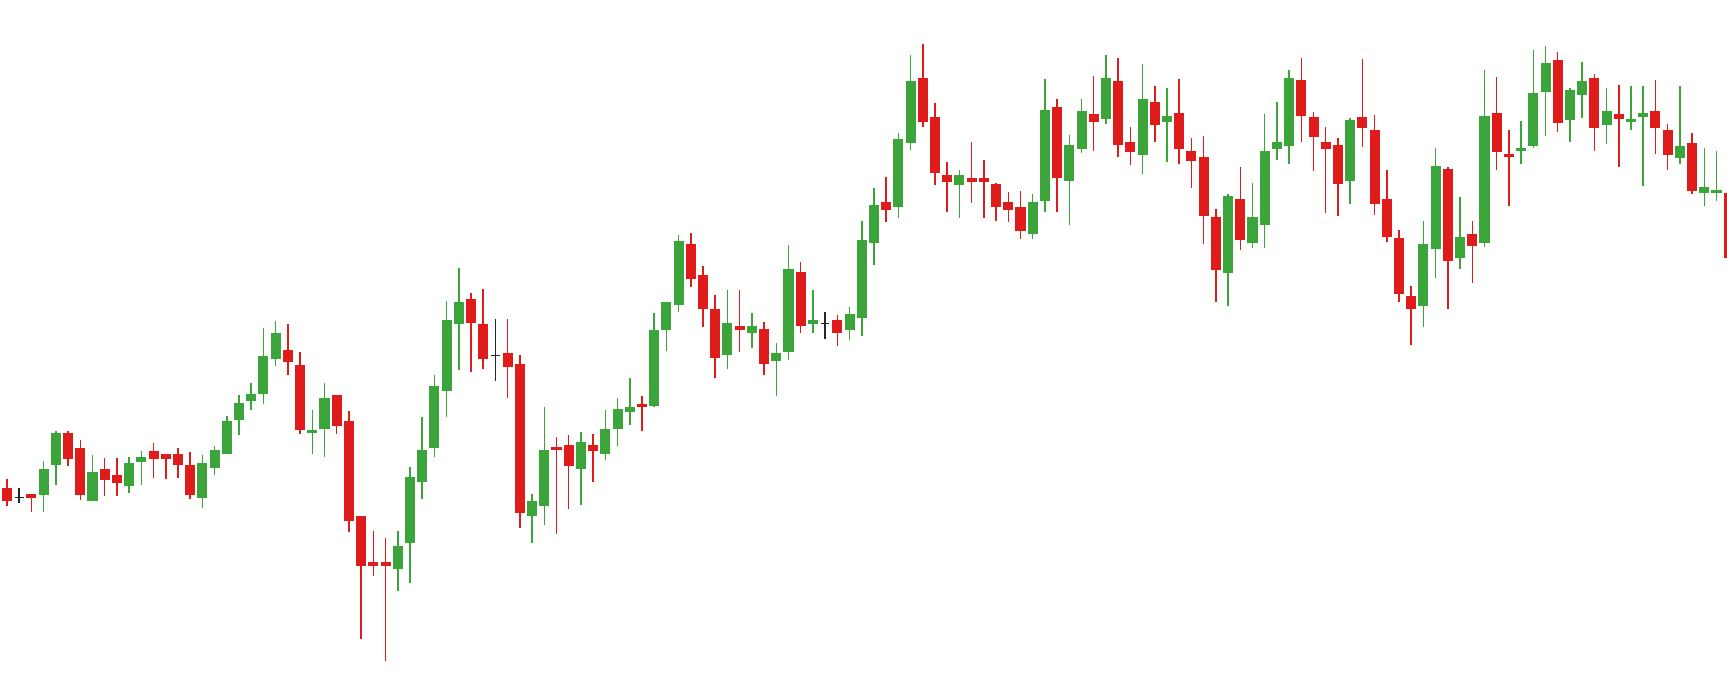buy: (186, 390, 417, 665), (1221, 149, 1431, 351), (707, 305, 780, 403)
sell: (1035, 51, 1127, 166)
